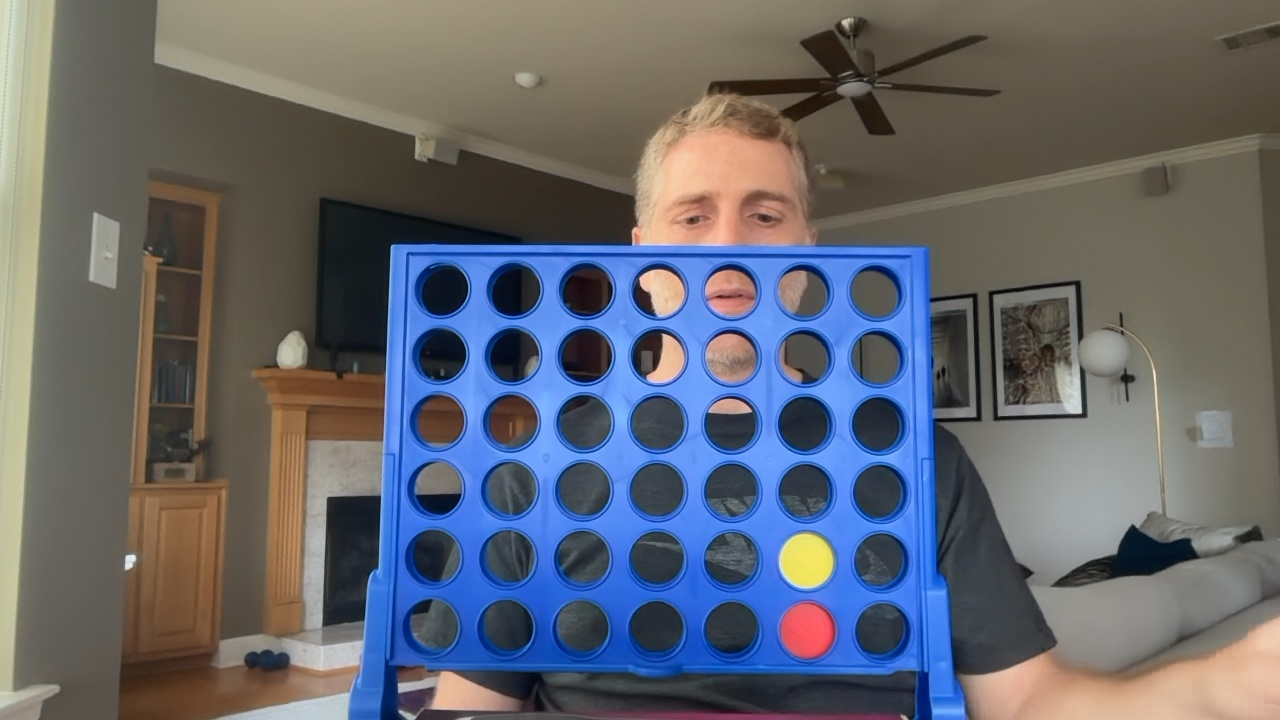red piece: (780, 601, 835, 659)
yellow piece: (779, 531, 834, 589)
